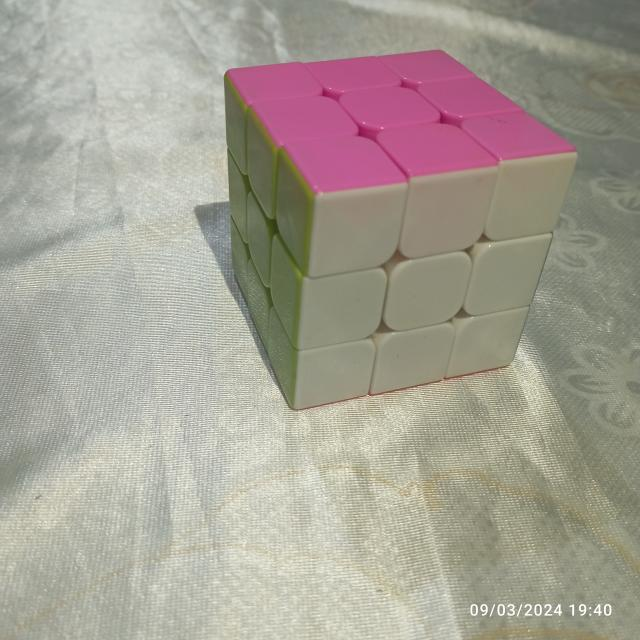Rub: (220, 40, 580, 414)
